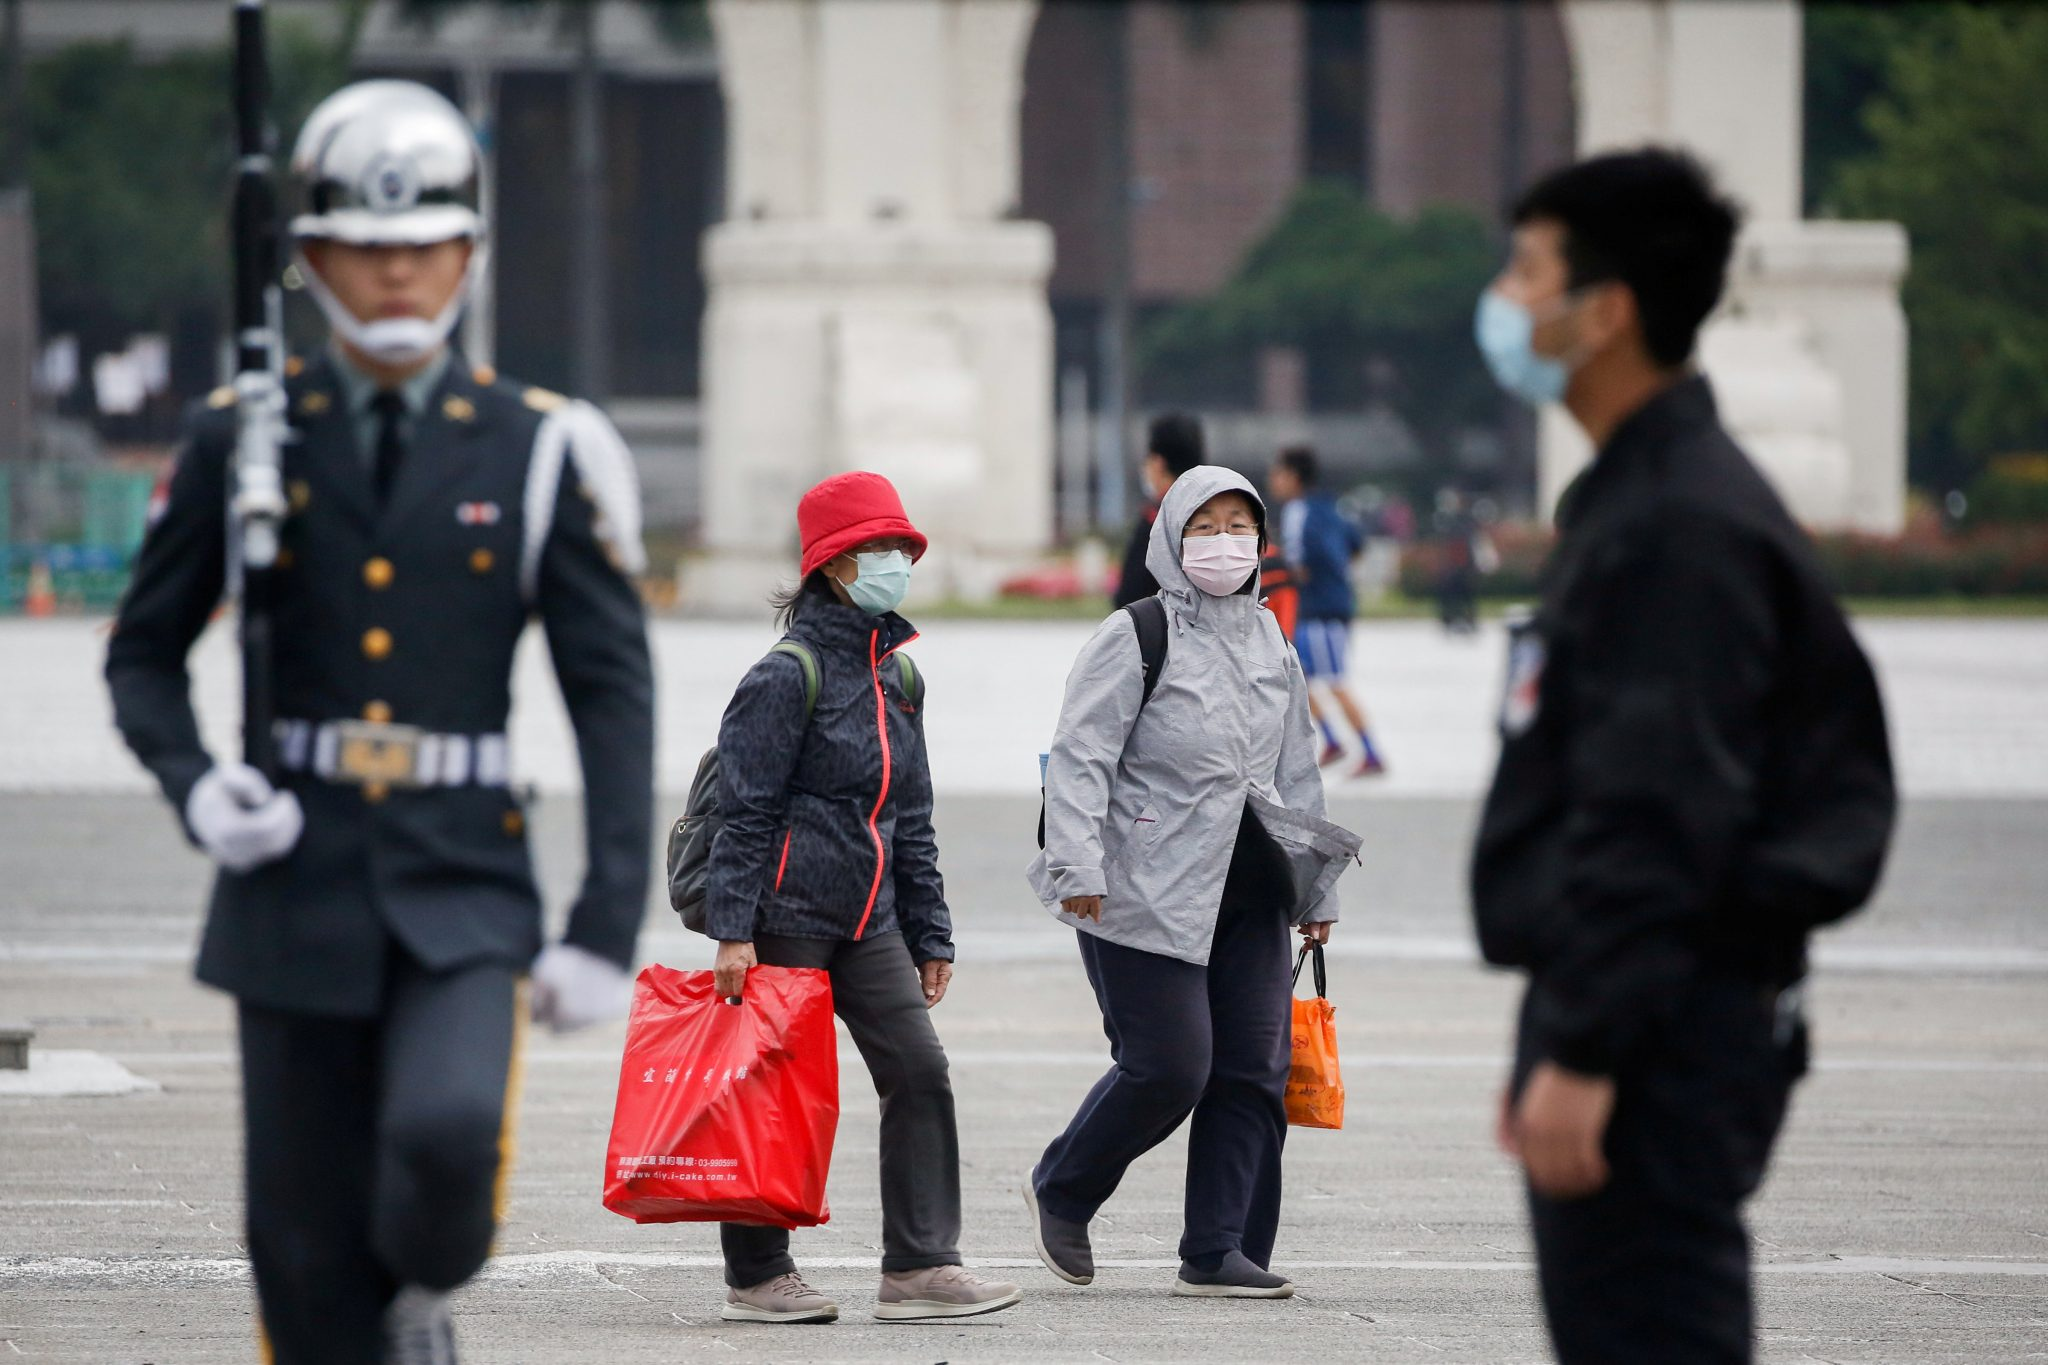with_mask: (1476, 226, 1606, 397), (1178, 493, 1266, 586), (840, 518, 906, 606)
without_mask: (323, 203, 450, 361)
